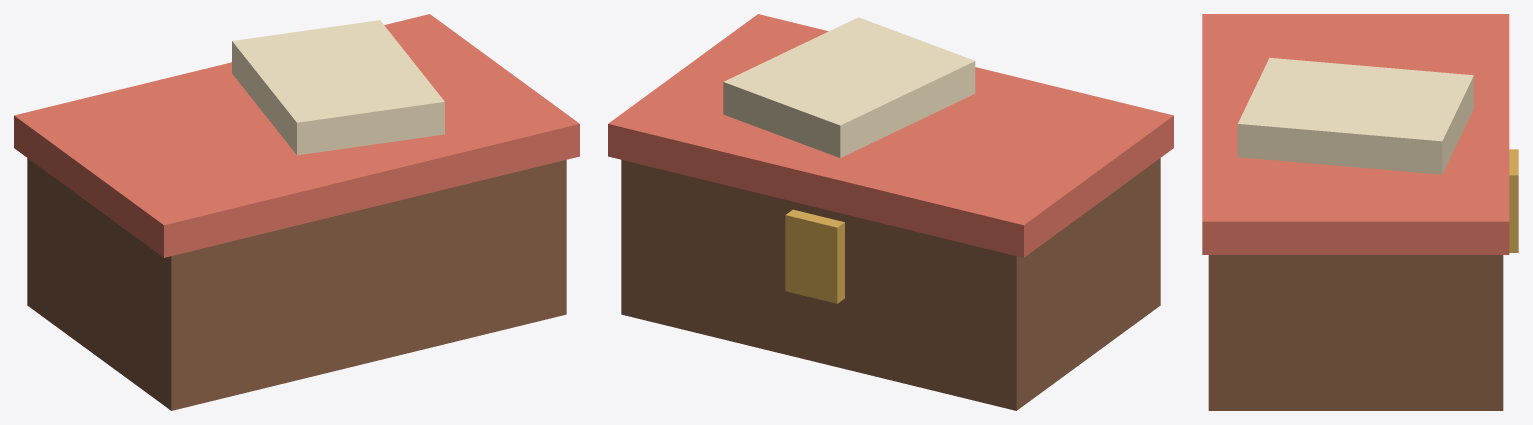
File: discovery-keepers-vault.glb
3 renders of one model, left to right at view 1: azimuth 30°, elevation 25°; view 2: azimuth 150°, elevation 25°; view 3: azimuth 270°, elevation 25°, orthographic. The views are drawn at different scales.
Visible parts, largest first — view 1: keepers-archive, archive-lid, keepers-journal; view 2: keepers-archive, archive-lid, keepers-journal, archive-lock; view 3: archive-lid, keepers-archive, keepers-journal, archive-lock.
Boxes of the visible parts, <box> form: keepers-archive: <box>27,158,566,410</box>; archive-lid: <box>14,14,579,257</box>; keepers-journal: <box>232,20,444,155</box>; keepers-archive: <box>621,158,1160,410</box>; archive-lid: <box>608,14,1173,257</box>; keepers-journal: <box>723,17,975,157</box>; archive-lock: <box>785,209,844,303</box>; archive-lid: <box>1202,14,1509,254</box>; keepers-archive: <box>1208,255,1503,410</box>; keepers-journal: <box>1237,57,1473,174</box>; archive-lock: <box>1509,149,1518,252</box>.
Size of the model in its own units: 4 by 2.1 by 2.58.
